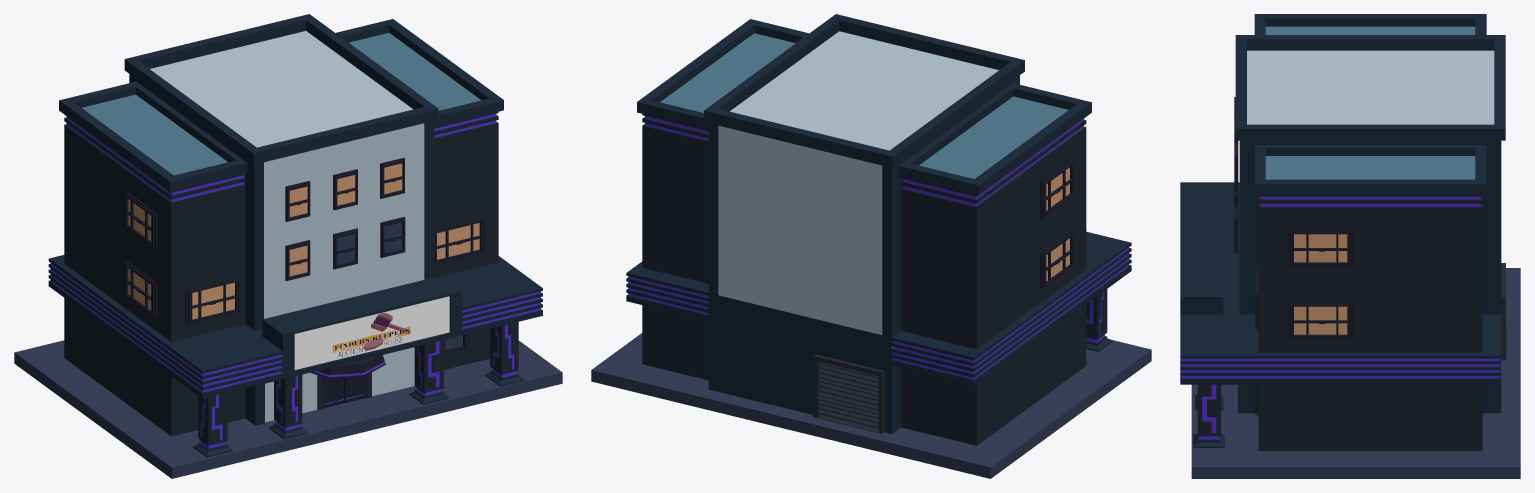
Rendered from Building_FindosKeepos.fbx.
3 views of the same model, side by side, from view 1: azimuth 30°, elevation 25°; view 2: azimuth 150°, elevation 25°; view 3: azimuth 270°, elevation 25° (orthographic). The views are drawn at different scales.
Visible parts, largest first — view 1: Cube.758, Cylinder.342, Cube.761; view 2: Cube.758, Cube.763; view 3: Cube.758.
Part boxes in pixels (x1,y1,x2,y2): Cube.758: [14, 14, 562, 478]; Cylinder.342: [310, 355, 385, 378]; Cube.761: [323, 377, 344, 408]; Cube.758: [591, 14, 1151, 478]; Cube.763: [819, 362, 878, 429]; Cube.758: [1180, 14, 1520, 478].
Bounding box in the file's own units: 1604 × 1117 × 1159.
